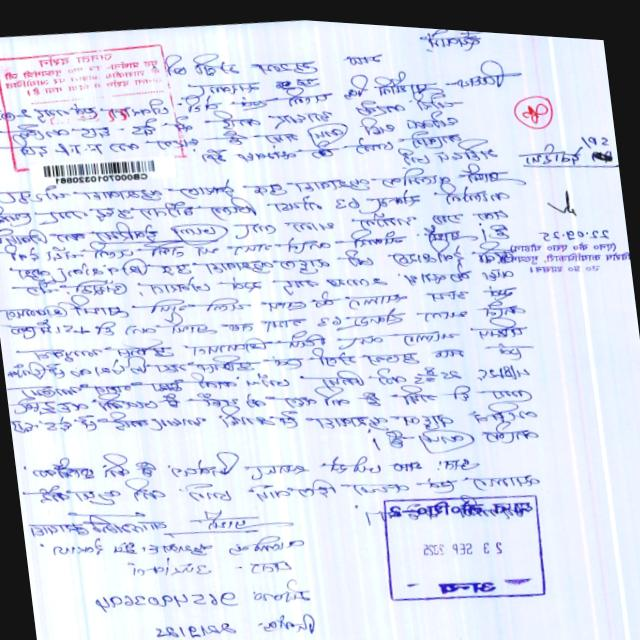barcode: (24, 141, 182, 200)
jantadarsan: (0, 35, 178, 181)
pinkstamp: (377, 477, 554, 611)
signnamestamp: (498, 165, 632, 289)
